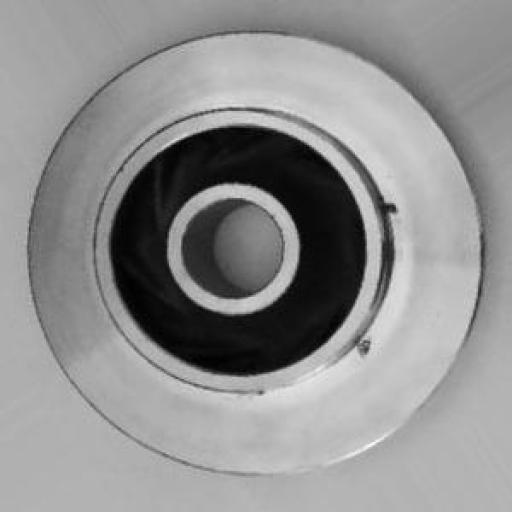defect: (332, 179, 418, 376)
